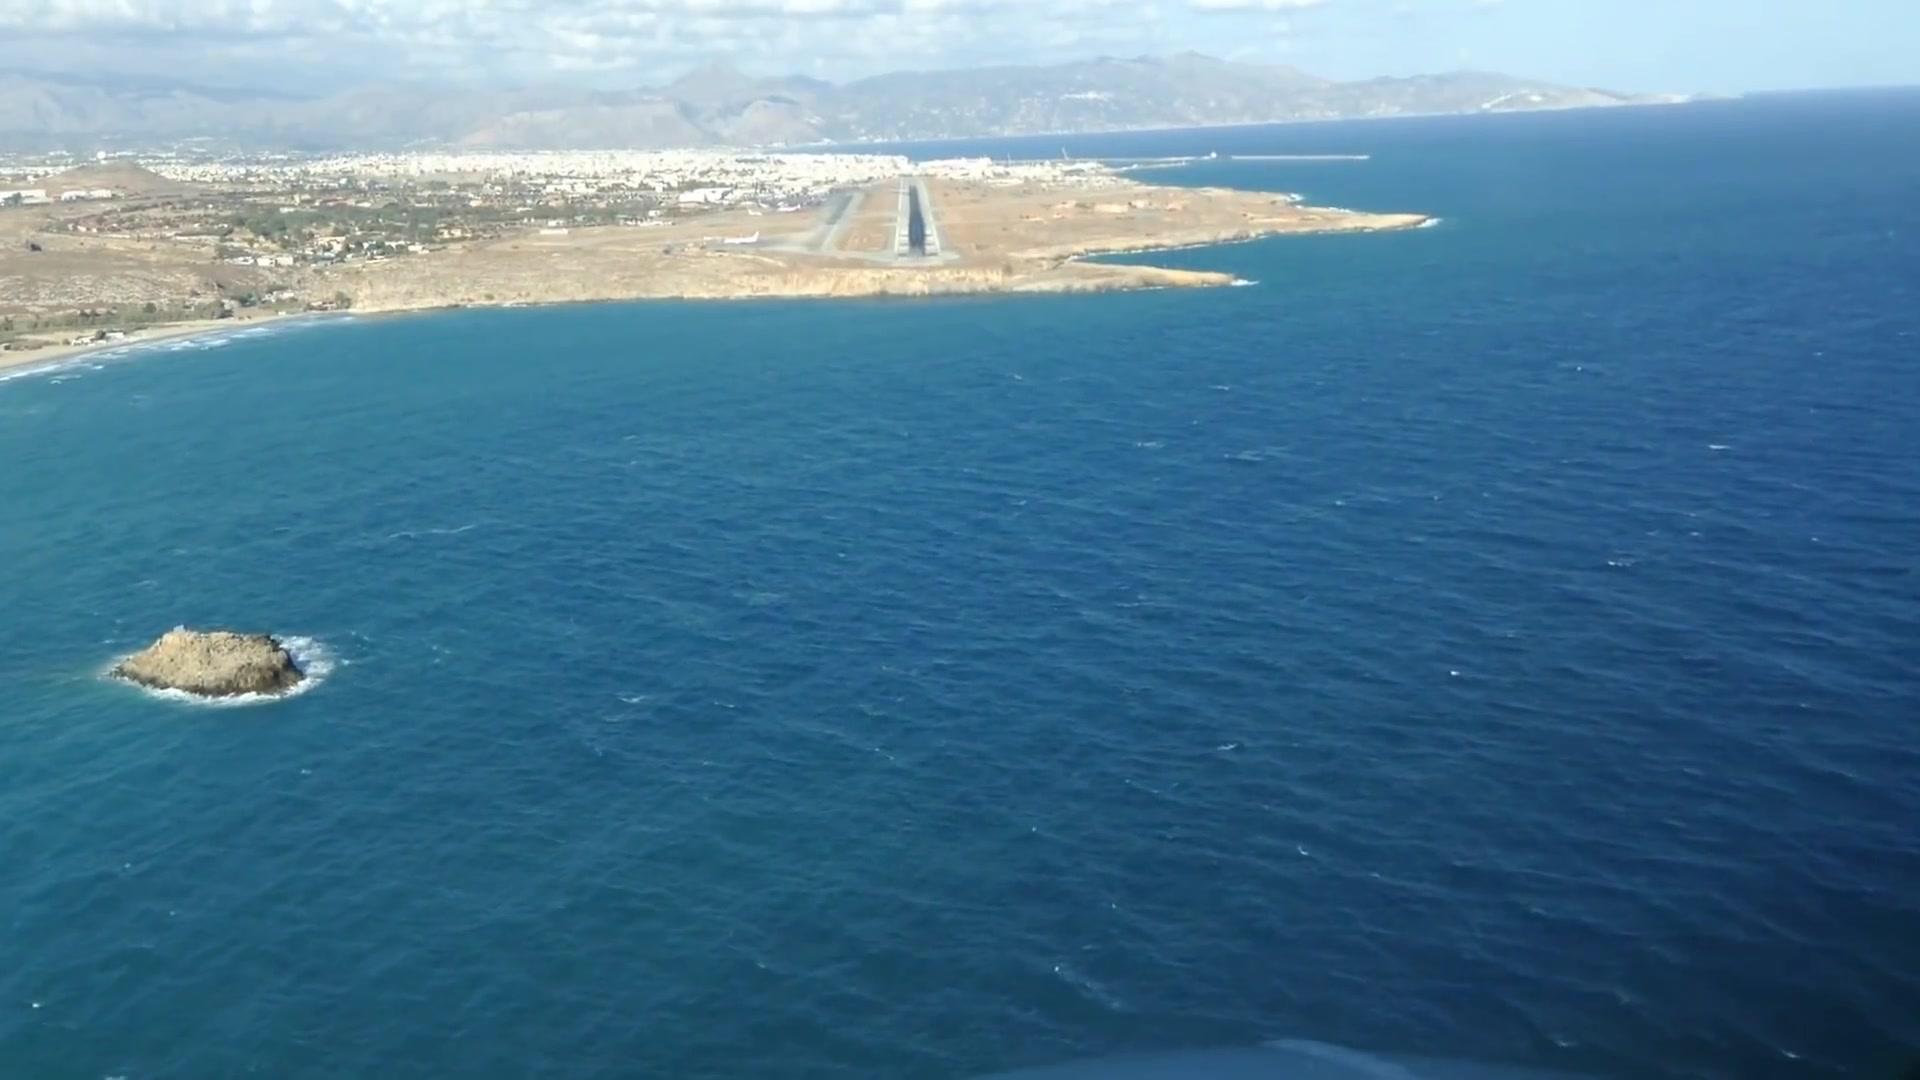runway: (893, 178, 942, 258)
